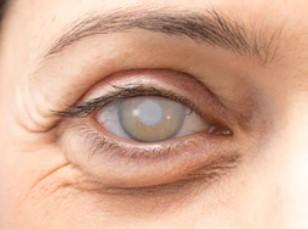eye: (118, 94, 185, 143)
